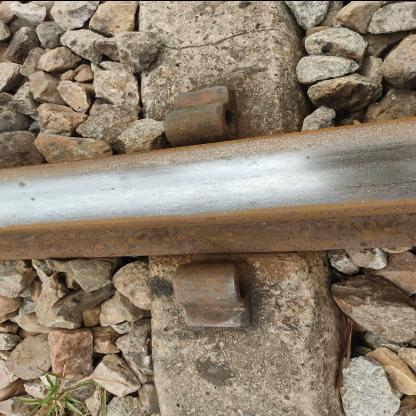Defective: (136, 50, 316, 366)
